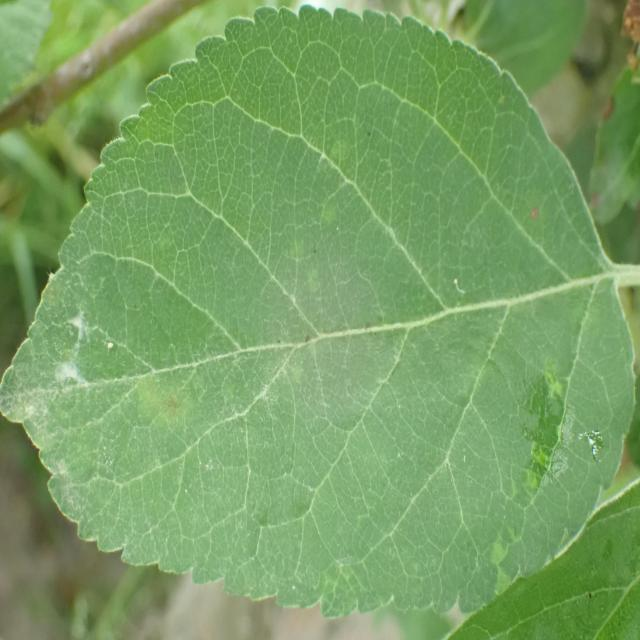scab: (43, 118, 600, 592)
